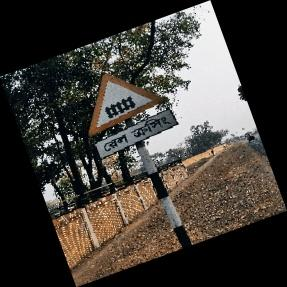Rail-crossing: (88, 72, 176, 164)
